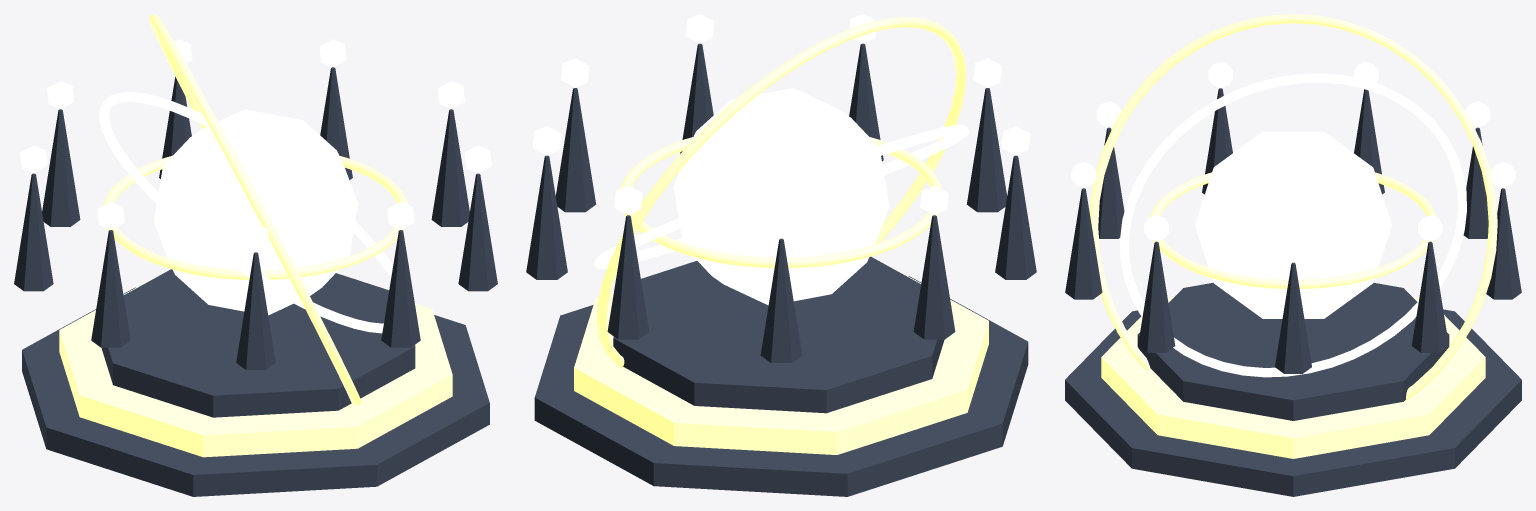
Rendered from gpu-blender-v34.glb.
The picture shows the model from 3 angles, left to right: view 1: azimuth 30°, elevation 25°; view 2: azimuth 150°, elevation 25°; view 3: azimuth 270°, elevation 25°; orthographic projection. The views are drawn at different scales.
Visible parts, largest first — view 1: Cylinder.002, SovereignCore_zothos-lite, Cylinder, Cylinder.001, Torus.001, Torus.002, Torus, Cone.004, Cone.008, Cone.005, Cone.007, Cone.006 (+12 smaller); view 2: Cylinder.002, SovereignCore_zothos-lite, Cylinder, Cylinder.001, Torus.002, Torus.001, Torus, Cone.002, Cone.004, Cone, Cone.001, Cone.005 (+12 smaller); view 3: SovereignCore_zothos-lite, Cylinder.002, Cylinder, Cylinder.001, Torus.002, Torus.001, Torus, Cone.007, Cone.001, Cone.008, Cone, Cone.002 (+10 smaller).
Boxes of the visible parts, x1,y1,x2,y2 form: Cylinder.002: (101,269,415,417); SovereignCore_zothos-lite: (153,109,358,315); Cylinder: (22,287,489,496); Cylinder.001: (59,277,452,457); Torus.001: (99,92,393,333); Torus.002: (149,14,361,405); Torus: (103,155,408,279); Cone.004: (14,173,53,291); Cone.008: (458,173,497,291); Cone.005: (91,230,130,347); Cone.007: (381,230,420,347); Cone.006: (236,252,275,369); Cylinder.002: (613,256,944,413); SovereignCore_zothos-lite: (673,88,889,305); Cylinder: (534,276,1028,496); Cylinder.001: (574,265,988,454); Torus.002: (596,17,966,367); Torus.001: (594,124,968,269); Torus: (621,137,942,268); Cone.002: (607,215,649,339); Cone.004: (913,215,955,339); Cone: (555,88,596,212); Cone.001: (526,155,567,279); Cone.005: (995,155,1036,279); SovereignCore_zothos-lite: (1195,131,1391,318); Cylinder.002: (1137,282,1449,420); Cylinder: (1065,309,1521,496); Cylinder.001: (1101,296,1485,458); Torus.002: (1090,14,1497,400); Torus.001: (1120,73,1466,377); Torus: (1150,172,1436,288); Cone.007: (1065,188,1102,299); Cone.001: (1411,241,1448,352); Cone.008: (1138,241,1175,352); Cone: (1275,262,1311,373); Cone.002: (1486,188,1521,299).
Size of the model in its own units: 4.41 by 3.72 by 4.4.
